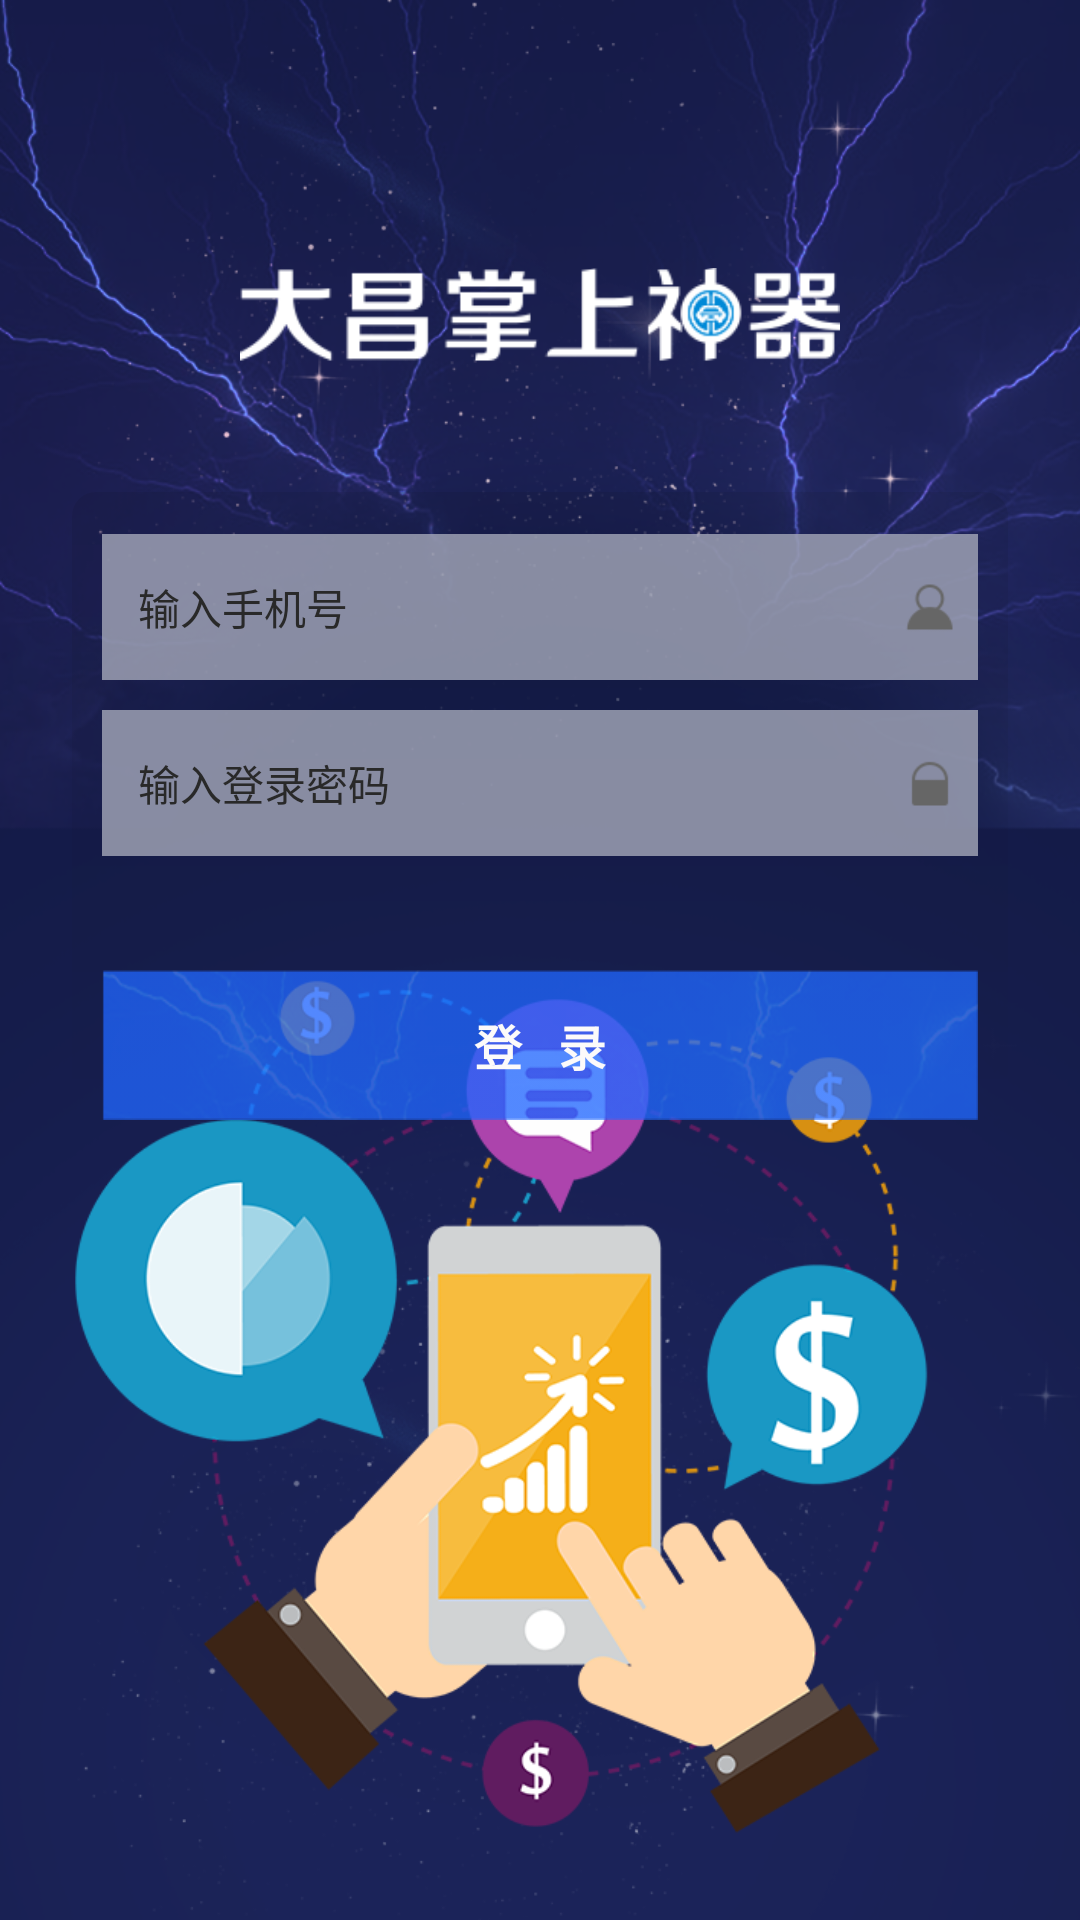

Icons on this 1080 × 1920 Android screen, each with the point to tap as (x,y):
login account: (930,607)
login pwd: (930,784)
